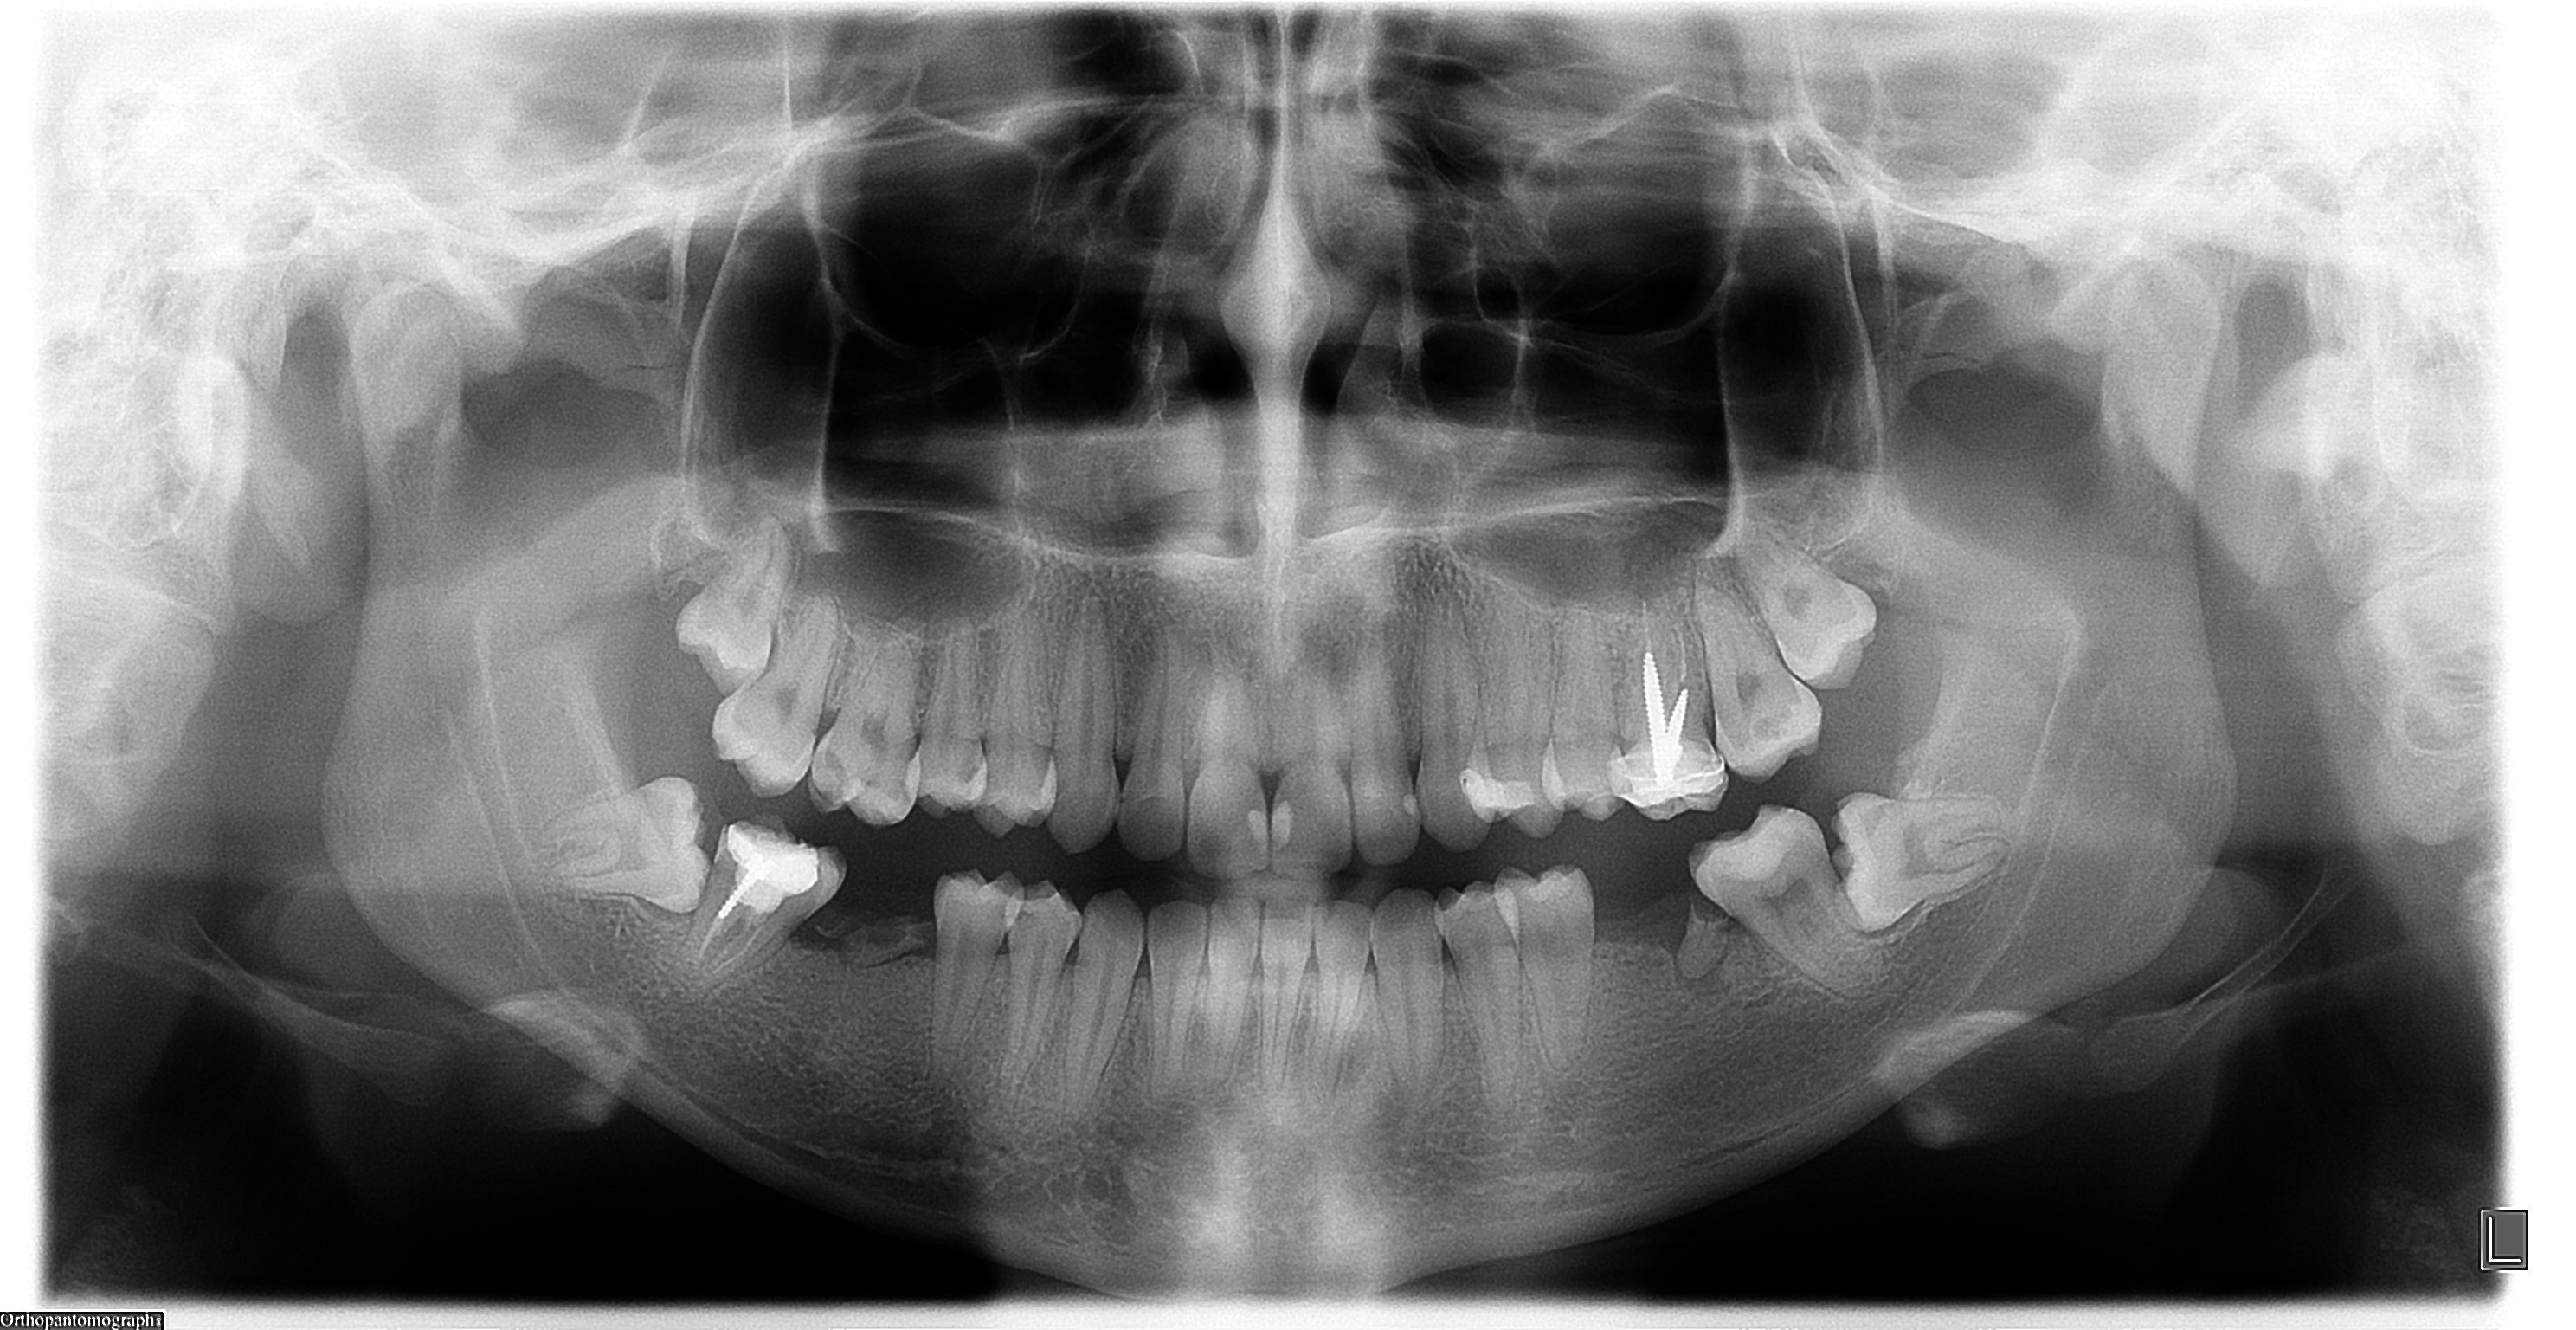CAR: (1121, 714, 1789, 802)
END: (1643, 601, 1687, 680)
IMT: (541, 777, 711, 913)
OBT: (728, 824, 817, 913)
PRR: (1606, 651, 1728, 821)
ROT: (812, 913, 934, 965)
